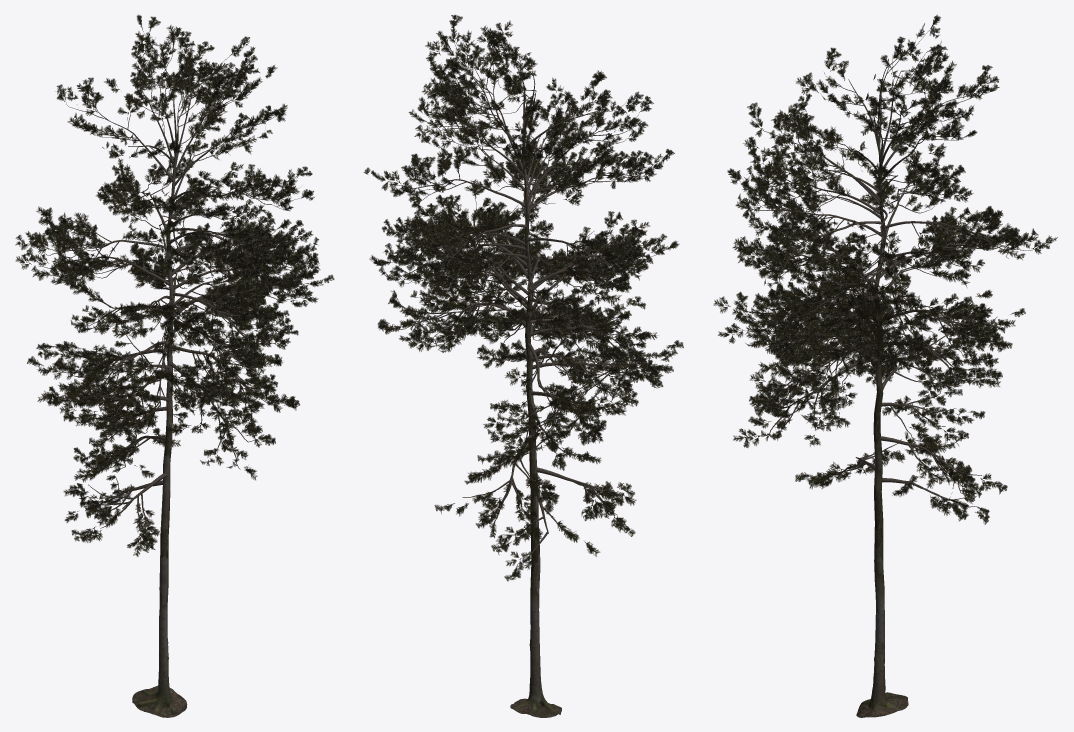
The model's file is pine_tree_01_c_near.glb.
The picture shows the model from 3 angles, left to right: view 1: azimuth 30°, elevation 25°; view 2: azimuth 150°, elevation 25°; view 3: azimuth 270°, elevation 25°; orthographic projection. The views are drawn at different scales.
Parts seen in each view (by area): view 1: pine_tree_01_c_near; view 2: pine_tree_01_c_near; view 3: pine_tree_01_c_near.
Boxes of the visible parts, x1,y1,x2,y2 form: pine_tree_01_c_near: (15, 14, 334, 717); pine_tree_01_c_near: (363, 15, 683, 717); pine_tree_01_c_near: (713, 15, 1057, 717).
Bounding box in the file's own units: 7.59 × 17.56 × 7.89.
Materials: 3 (3 with a texture image).
